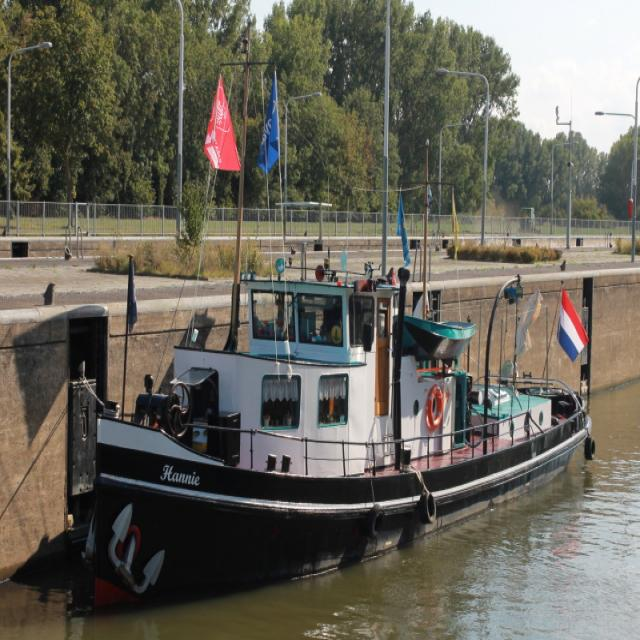tugboat: (69, 256, 596, 626)
